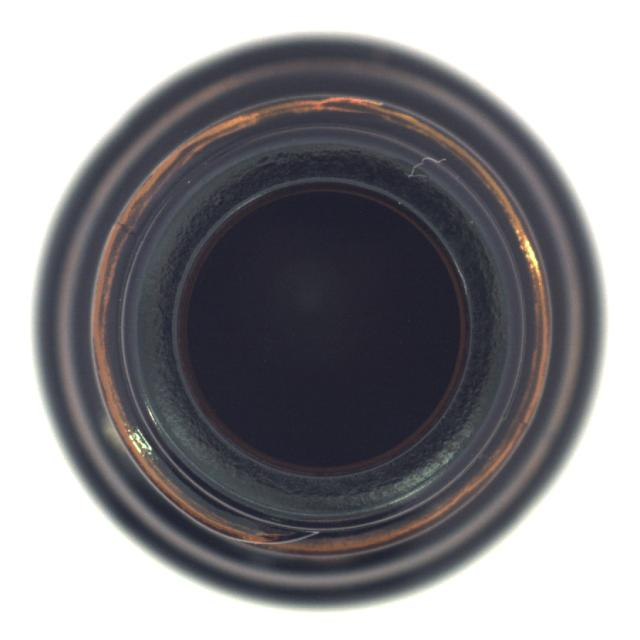bottle-good: (32, 32, 595, 606)
